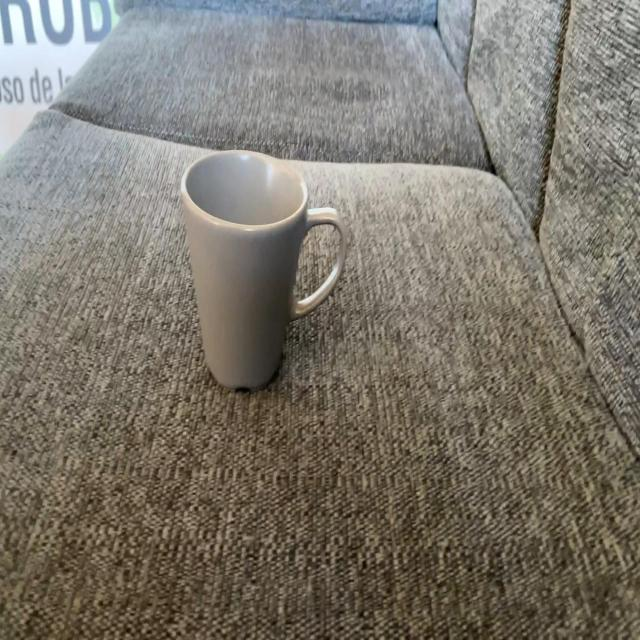cup: (185, 156, 354, 399)
